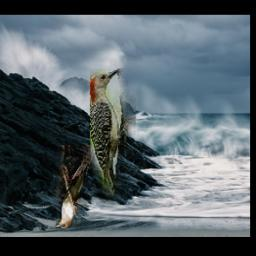Cuckoo: (55, 145, 95, 228)
Woodpecker: (89, 69, 135, 200)
